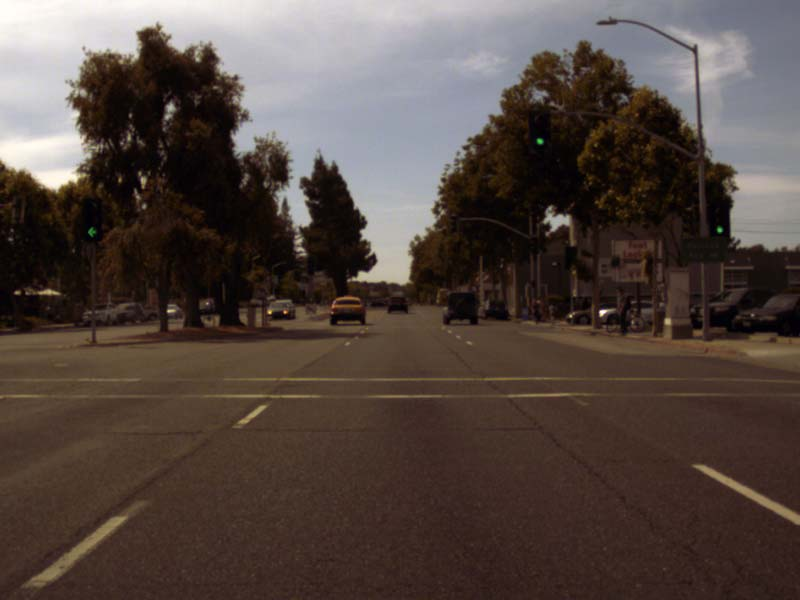Green: (528, 110, 549, 150), (82, 198, 100, 239), (709, 200, 728, 237)
